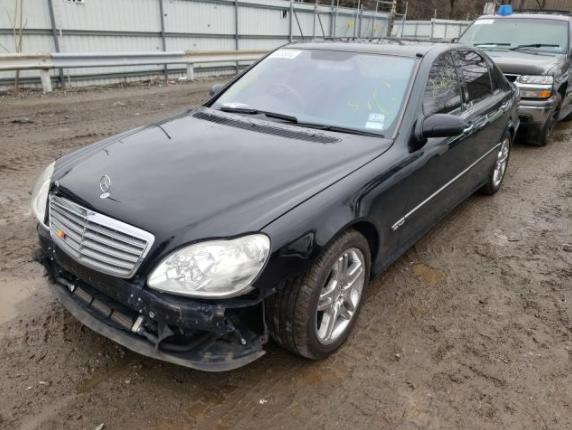Broken part: (35, 225, 300, 372)
Dent: (50, 177, 95, 208)
